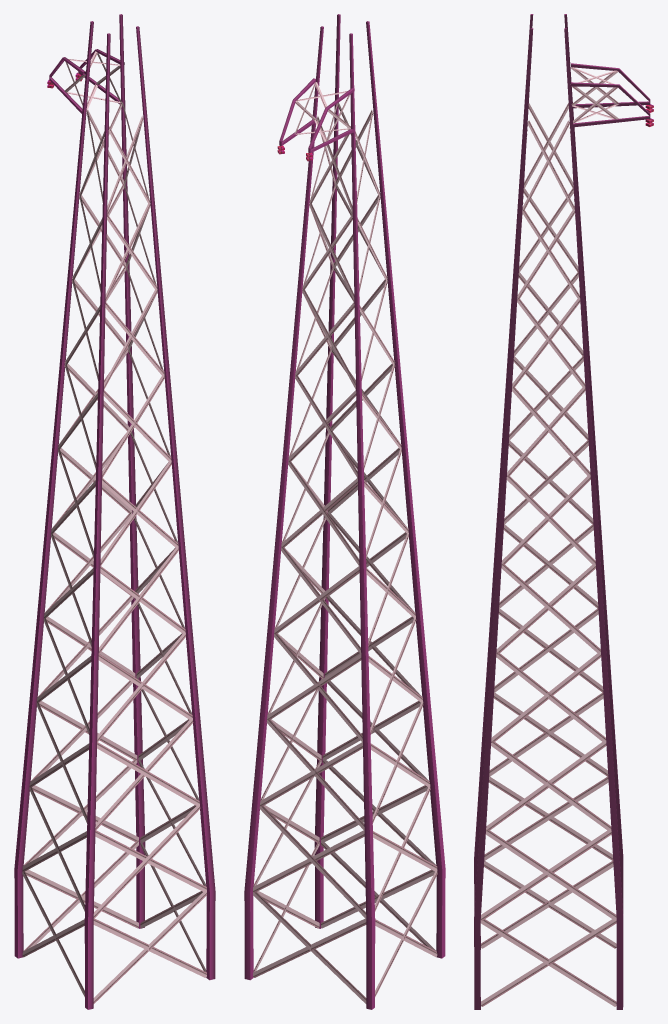
File: Pylon.fbx
3 renders of one model, left to right at view 1: azimuth 30°, elevation 25°; view 2: azimuth 150°, elevation 25°; view 3: azimuth 270°, elevation 25°, orthographic.
Parts seen in each view (by area): view 1: group4_pCube7, pCube13, pCube14, pCube15, pCube16, pCube17, pCube18, pCube19, pCube20, pCube21, pCube22, group8_group4_pCube7; view 2: group4_pCube7, pCube13, pCube14, pCube15, pCube16, pCube17, pCube18, pCube19, pCube20, pCube21, group8_group4_pCube7, pCube22; view 3: group4_pCube7, pCube13, pCube14, pCube15, pCube16, pCube17, pCube18, group8_group4_pCube7, pCube19, pCube20, pCube21, pCube22.
Boxes of the visible parts, x1,y1,x2,y2 form: group4_pCube7: (14, 14, 215, 1009); pCube13: (22, 840, 206, 1003); pCube14: (22, 759, 206, 918); pCube15: (29, 676, 199, 829); pCube16: (37, 595, 192, 742); pCube17: (44, 512, 185, 653); pCube18: (51, 432, 178, 565); pCube19: (58, 348, 171, 477); pCube20: (64, 267, 164, 389); pCube21: (72, 184, 157, 301); pCube22: (79, 101, 150, 212); group8_group4_pCube7: (49, 49, 124, 113); group4_pCube7: (244, 14, 445, 1009); pCube13: (253, 840, 437, 1003); pCube14: (253, 759, 437, 918); pCube15: (260, 679, 430, 829); pCube16: (267, 595, 422, 741); pCube17: (274, 513, 415, 653); pCube18: (281, 432, 408, 565); pCube19: (288, 348, 401, 477); pCube20: (295, 266, 395, 389); pCube21: (302, 184, 387, 301); group8_group4_pCube7: (279, 78, 354, 153); pCube22: (309, 102, 380, 212); group4_pCube7: (474, 14, 623, 1009); pCube13: (480, 860, 616, 1006); pCube14: (480, 776, 616, 920); pCube15: (486, 692, 611, 831); pCube16: (491, 608, 606, 743); pCube17: (496, 524, 600, 654); pCube18: (501, 440, 595, 565); group8_group4_pCube7: (571, 63, 650, 127); pCube19: (507, 355, 590, 477); pCube20: (512, 271, 585, 388); pCube21: (517, 187, 580, 300); pCube22: (522, 103, 574, 211).
Size of the model in its own units: 15.68 by 111 by 18.88.
